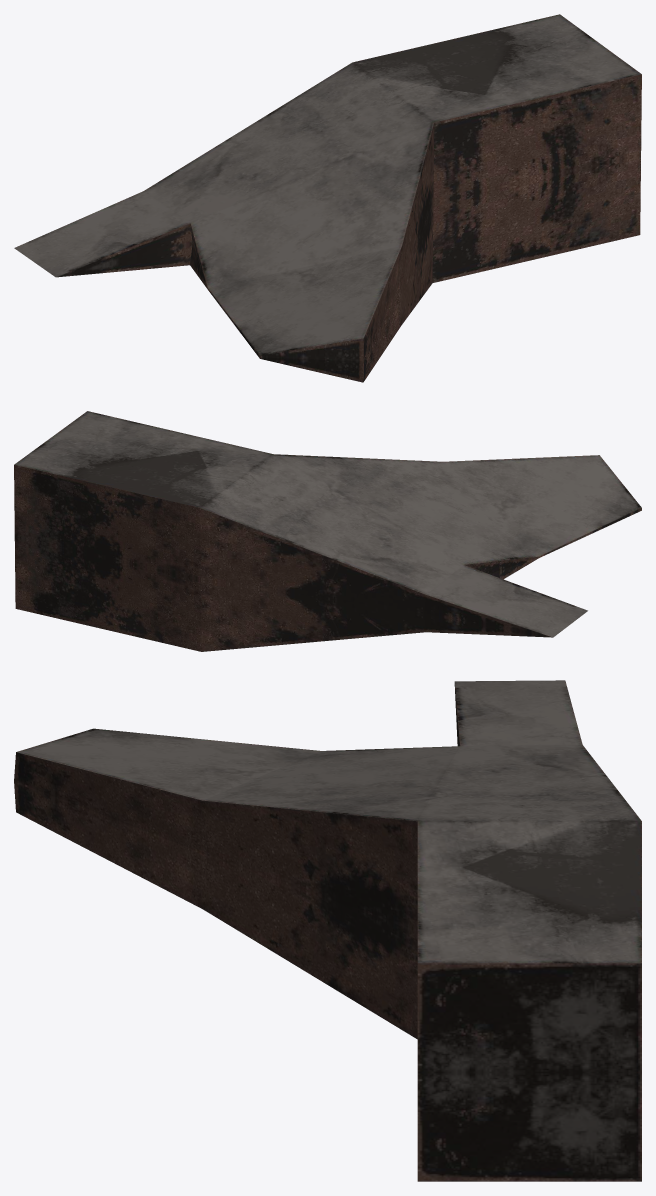
The model's file is PartTwo.fbx.
3 renders of one model, top to bottom at view 1: azimuth 30°, elevation 25°; view 2: azimuth 150°, elevation 25°; view 3: azimuth 270°, elevation 25°, orthographic. The views are drawn at different scales.
Parts seen in each view (by area): view 1: Part2; view 2: Part2; view 3: Part2.
Boxes of the visible parts, left/top/right/bottom form: Part2: left=14, top=14, right=641, bottom=382; Part2: left=14, top=411, right=641, bottom=651; Part2: left=14, top=680, right=641, bottom=1181.
Size of the model in its own units: 243 by 65.82 by 168.
1 material, 1 textured.
